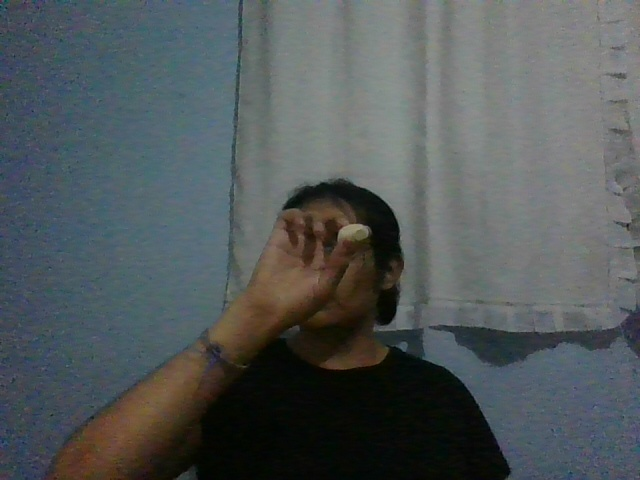goma: (337, 223, 372, 244)
